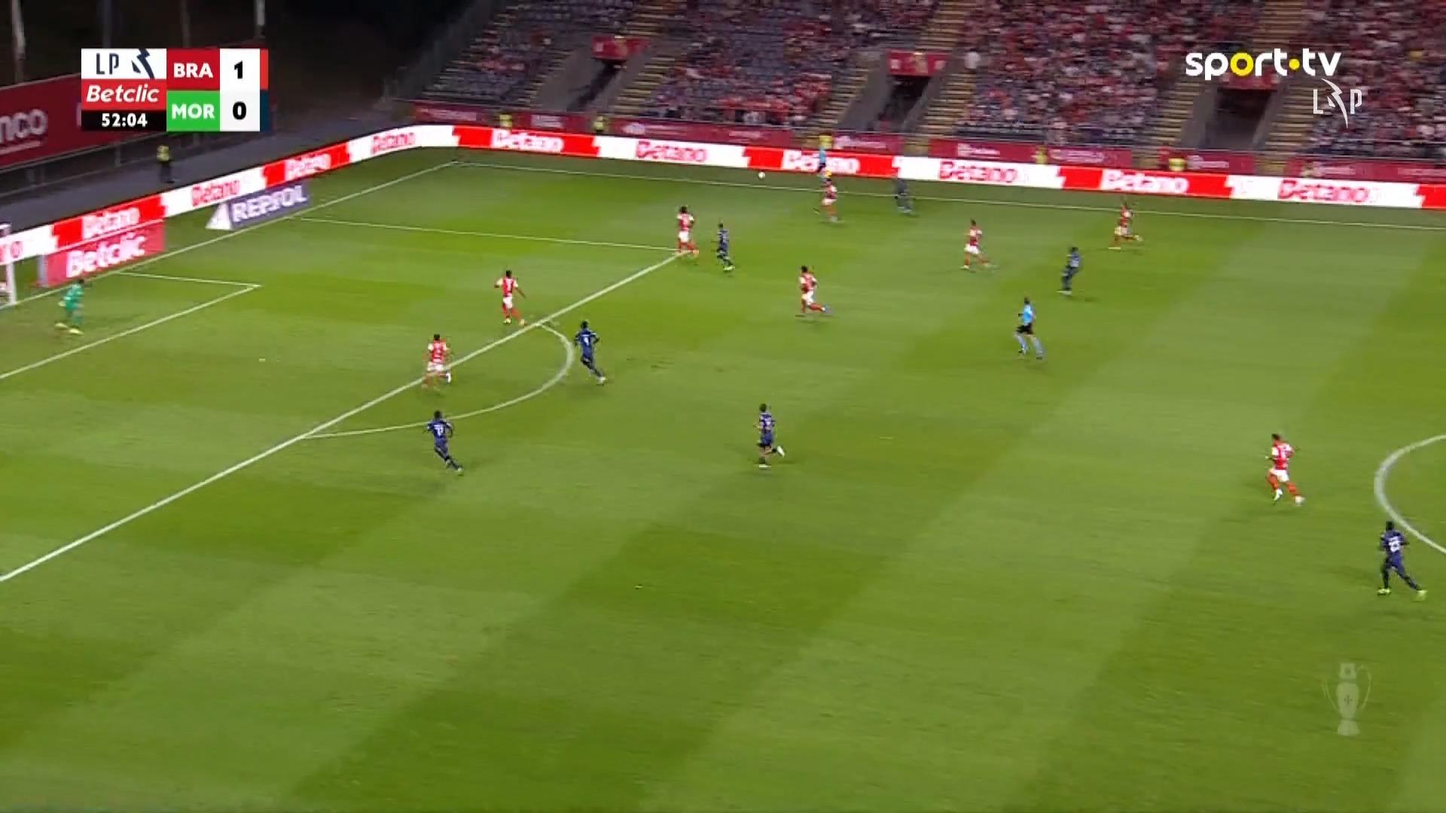ball: (757, 169, 766, 181)
goalkeeper: (54, 276, 87, 334)
player: (1375, 519, 1426, 601), (1264, 431, 1304, 506), (423, 409, 463, 475), (752, 402, 785, 468), (573, 319, 606, 385), (419, 332, 453, 389), (493, 269, 526, 327), (1108, 199, 1143, 250), (795, 264, 828, 316), (960, 218, 992, 271), (814, 172, 842, 222), (674, 204, 699, 259), (1057, 245, 1081, 295), (714, 221, 735, 272), (891, 169, 914, 215)
referee: (1013, 296, 1044, 358), (809, 145, 834, 181)
